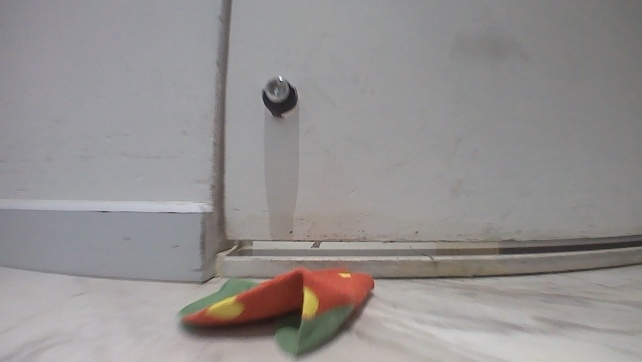socks: (172, 260, 385, 357)
